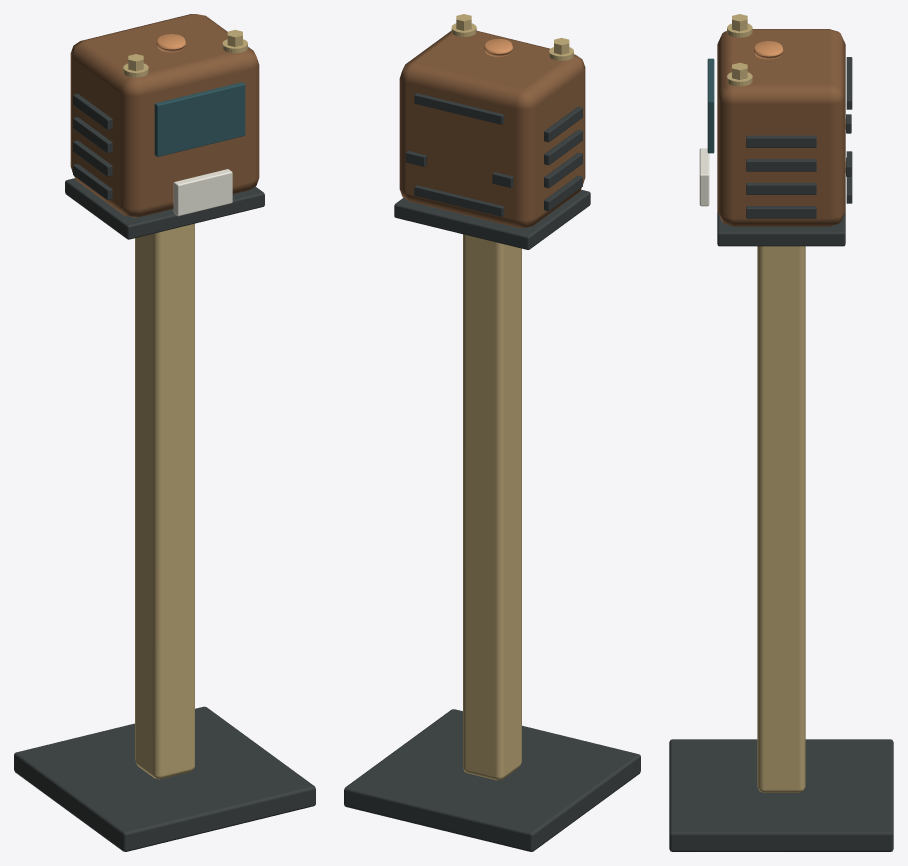
Rendered from city-courthouse-and-records-office-city-courthouse-and-07c3f616__30996.glb.
3 views of the same model, side by side, from view 1: azimuth 30°, elevation 25°; view 2: azimuth 150°, elevation 25°; view 3: azimuth 270°, elevation 25° (orthographic). The views are drawn at different scales.
Parts seen in each view (by area): view 1: city-courthouse-and-records-office-visitor-token-dispenser; view 2: city-courthouse-and-records-office-visitor-token-dispenser; view 3: city-courthouse-and-records-office-visitor-token-dispenser.
Part boxes in pixels (x1,y1,x2,y2): city-courthouse-and-records-office-visitor-token-dispenser: (14,14,315,851); city-courthouse-and-records-office-visitor-token-dispenser: (344,14,640,851); city-courthouse-and-records-office-visitor-token-dispenser: (669,14,893,851).
Size of the model in its own units: 0.35 by 1.32 by 0.35.
